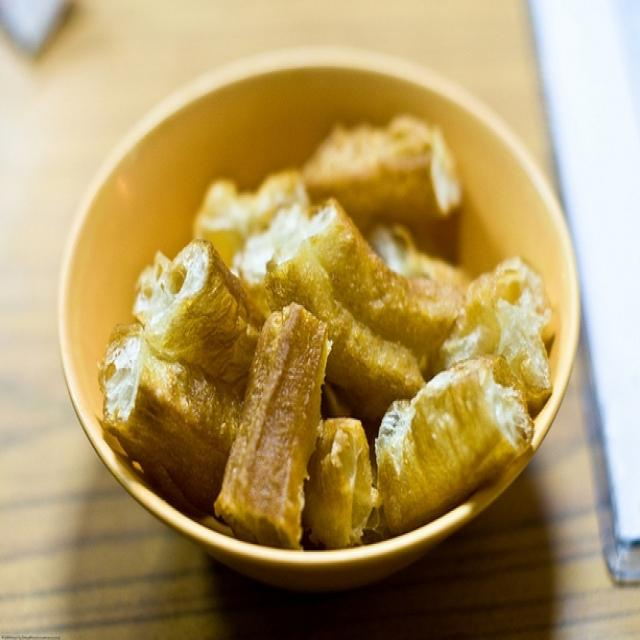汤锅炖物: (75, 47, 582, 604)
